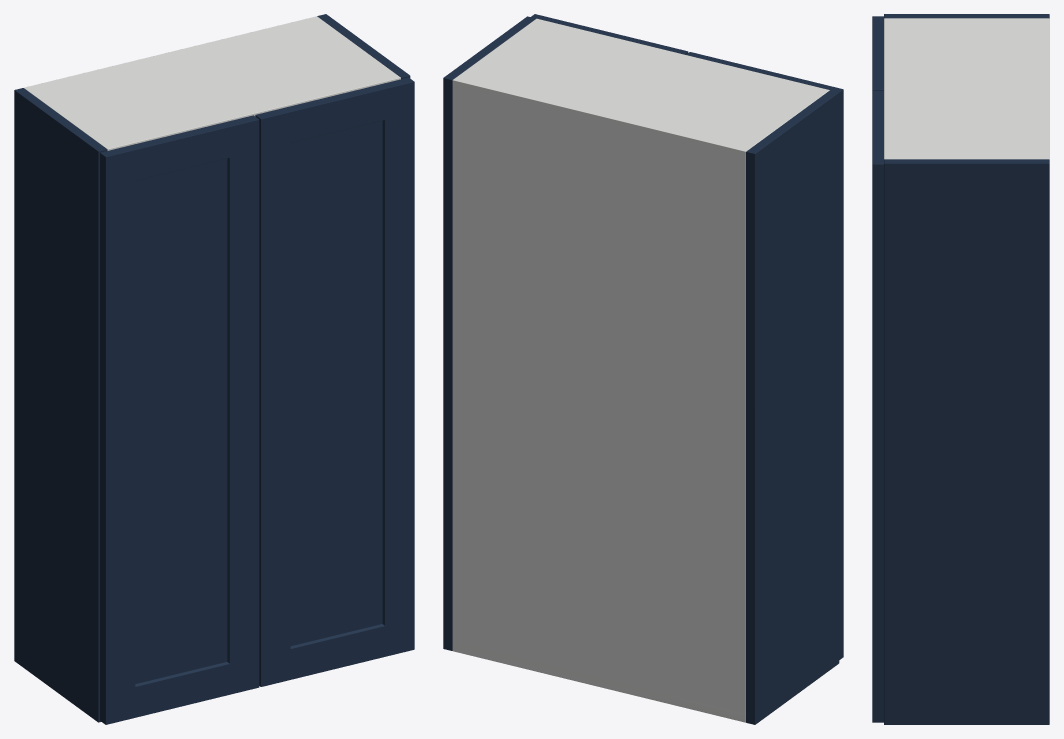
File: oppein-pb-bss-w2442.glb
3 views of the same model, side by side, from view 1: azimuth 30°, elevation 25°; view 2: azimuth 150°, elevation 25°; view 3: azimuth 270°, elevation 25° (orthographic).
Visible parts, largest first — view 1: Door, Door.001, Cabinet side, Cabinet top, Cabinet side.001; view 2: Cabinet back, Cabinet side, Cabinet top, Cabinet side.001, Door, Cabinet bottom, Door.001; view 3: Cabinet side.001, Cabinet top, Door.001, Door, Cabinet side.
Part boxes in pixels (bbox=[...]): Door: bbox=[100, 115, 259, 724]; Door.001: bbox=[255, 77, 414, 686]; Cabinet side: bbox=[14, 88, 107, 722]; Cabinet top: bbox=[24, 16, 400, 150]; Cabinet side.001: bbox=[317, 14, 410, 79]; Cabinet back: bbox=[452, 80, 745, 713]; Cabinet side: bbox=[746, 90, 839, 724]; Cabinet top: bbox=[452, 18, 829, 158]; Cabinet side.001: bbox=[443, 16, 536, 650]; Door: bbox=[686, 52, 843, 659]; Cabinet bottom: bbox=[453, 642, 745, 722]; Door.001: bbox=[531, 14, 688, 54]; Cabinet side.001: bbox=[884, 159, 1049, 724]; Cabinet top: bbox=[884, 18, 1049, 159]; Door.001: bbox=[872, 90, 883, 722]; Door: bbox=[872, 16, 883, 90]; Cabinet side: bbox=[884, 14, 1049, 18].
Bounding box in the file's own units: 0.6096 × 1.07 × 0.3048.
